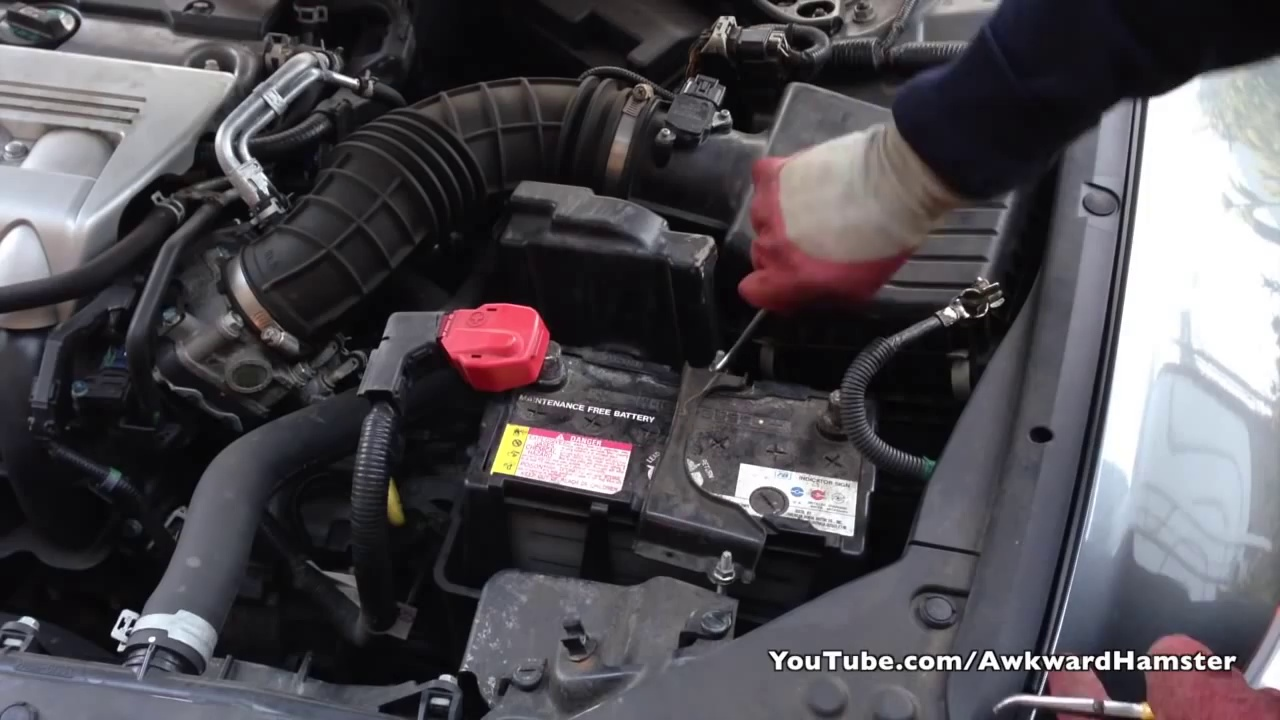battery: (466, 317, 884, 543)
neg_disconnected: (800, 376, 889, 466)
pos_connected: (407, 276, 576, 408)
